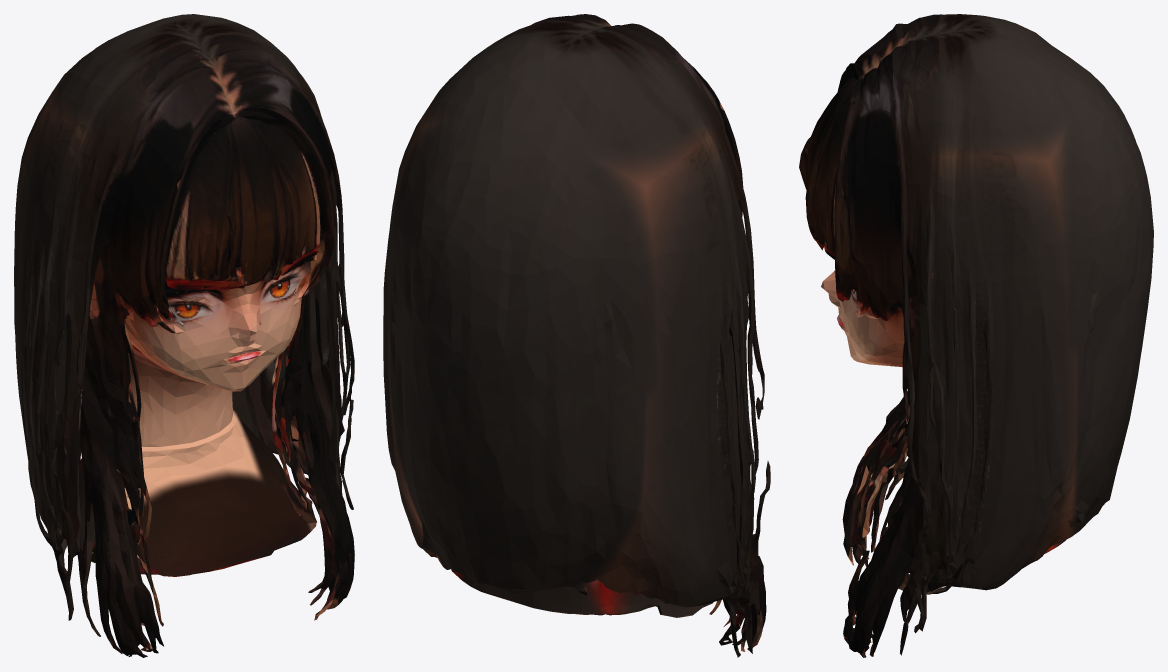
Rendered from side_uona_repaired_atlas.glb.
3 views of the same model, side by side, from view 1: azimuth 30°, elevation 25°; view 2: azimuth 150°, elevation 25°; view 3: azimuth 270°, elevation 25° (orthographic). The views are drawn at different scales.
Parts seen in each view (by area): view 1: temp_mesh.ply; view 2: temp_mesh.ply; view 3: temp_mesh.ply.
Boxes of the visible parts, x1=… form: temp_mesh.ply: x1=14, y1=14, x2=354, y2=657; temp_mesh.ply: x1=383, y1=14, x2=770, y2=657; temp_mesh.ply: x1=799, y1=14, x2=1153, y2=657.
Size of the model in its own units: 1.12 by 1.97 by 1.08.
1 material, 1 textured.
